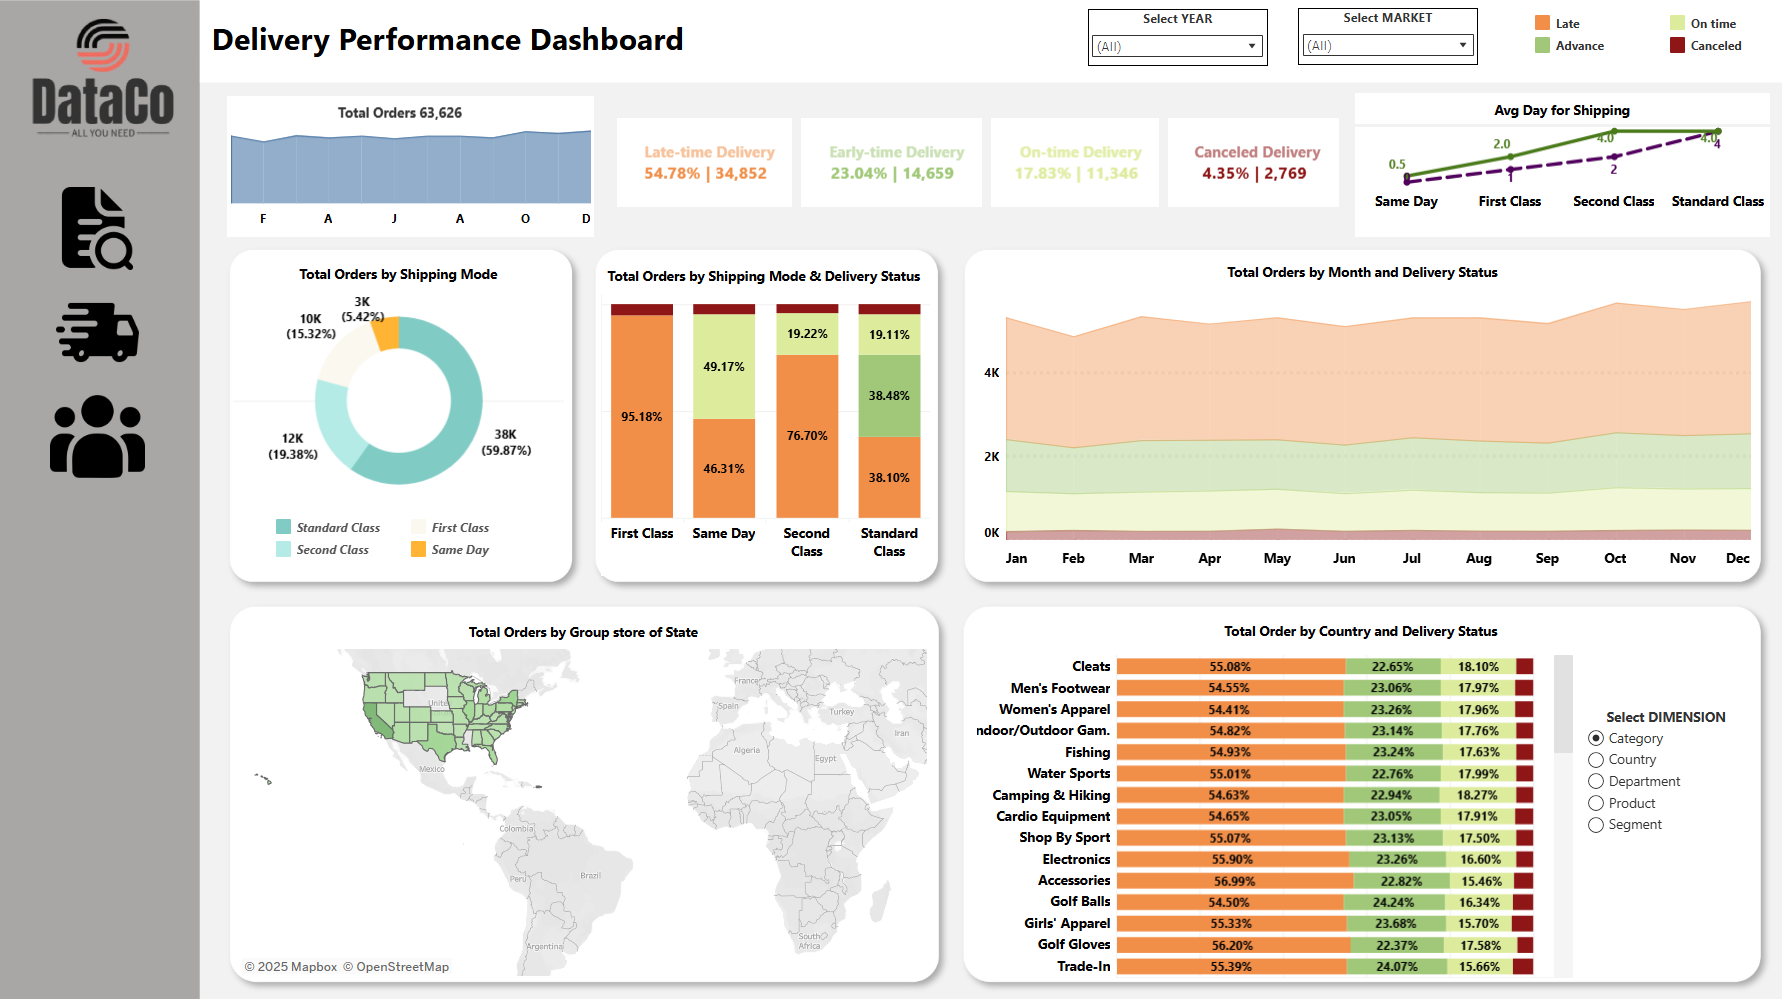

The page's visual inventory and layout, read from the dashboard file:
{"tool":"tableau","page":{"name":"DELIVERY dashboard","canvas":[1600,900],"ordinal":1},"visuals":[{"type":"image","param":"D:/Năm 3/Kì 2/Trực quan hóa DL/BT Nhóm/Final/Template Delivery.jpg","box":[0,0,1600,900]},{"type":"filter","title":"Total Orders by Shipping Mode & Delivery Status ","param":"[federated.1q7cowo1s3advo10dbl711lnegs0].[none:Customer Market:nk]","box":[1162,11,160,51]},{"type":"filter","title":"Total Orders by Shipping Mode & Delivery Status ","param":"[federated.1q7cowo1s3advo10dbl711lnegs0].[yr:Order Date:ok]","box":[975,12,160,51]},{"type":"text","box":[196,15,520,44]},{"type":"worksheet","title":"Avg Day for Shipping","mark":"Line","rows":["Days for shipment (scheduled)","Days for shipping (real)"],"cols":["Shipping Mode"],"box":[1212,87,369,129]},{"type":"worksheet","title":"Total orders","mark":"Automatic","box":[302,94,188,28]},{"type":"worksheet","title":"Late-time Delivery","mark":"Automatic","box":[552,105,164,87]},{"type":"worksheet","title":"Early-time Delivery","mark":"Automatic","box":[716,105,169,87]},{"type":"worksheet","title":"On-time Delivery","mark":"Automatic","box":[885,105,157,87]},{"type":"worksheet","title":"Canceled Delivery","mark":"Automatic","box":[1042,105,160,87]},{"type":"worksheet","title":"Total orders by month","mark":"Area","rows":["Calculation_1693916422482567170"],"cols":["Month"],"box":[213,117,320,97]},{"type":"dashboard-object","box":[44,185,111,92.3]},{"type":"worksheet","title":"Total Orders by Month and Delivery Status","mark":"Area","rows":["Calculation_1693916422482567170"],"cols":["Month"],"box":[872,231,692,283]},{"type":"worksheet","title":"Total Orders by Shipping Mode","mark":"Pie","rows":["Calculation_1507298513372962832","Calculation_1507298513373003794"],"box":[215,233,294,224]},{"type":"worksheet","title":"Total Orders by Shipping Mode & Delivery Status ","mark":"Automatic","cols":["Shipping Mode"],"box":[542,235,293,281]},{"type":"dashboard-object","box":[44,277.3,111,92.3]},{"type":"dashboard-object","box":[44,369.7,111,92.3]},{"type":"legend","title":"Total Orders by Shipping Mode","param":"[federated.1q7cowo1s3advo10dbl711lnegs0].[none:Shipping Mode:nk]","box":[250,462,249,50]},{"type":"text","box":[869,549,697,30]},{"type":"worksheet","title":"Total Orders by Group store of State","mark":"Automatic","box":[221,551,611,321]},{"type":"worksheet","title":"Total Orders by Dimension and Delivery Status","mark":"Automatic","rows":["Calculation_1507298513379631125"],"cols":["Calculation_1693916422482567170"],"box":[876,586,531,287]},{"type":"parameter","param":"[Parameters].[Parameter 2]","box":[1416,633,146,143]}]}

Visuals, with their boxes in screenshot pixels (x1, y1, x2, y2), scaled from the page's 1600x900 canvas onto the 1782x999 screenshot:
image: select_region(0, 0, 1781, 998)
"Total Orders by Shipping Mode & Delivery Status " filter: select_region(1294, 12, 1472, 69)
"Total Orders by Shipping Mode & Delivery Status " filter: select_region(1086, 13, 1264, 70)
text: select_region(218, 17, 797, 65)
"Avg Day for Shipping" worksheet (Line marks): select_region(1350, 97, 1761, 240)
"Total orders" worksheet: select_region(336, 104, 546, 135)
"Late-time Delivery" worksheet: select_region(615, 117, 797, 213)
"Early-time Delivery" worksheet: select_region(797, 117, 986, 213)
"On-time Delivery" worksheet: select_region(986, 117, 1161, 213)
"Canceled Delivery" worksheet: select_region(1161, 117, 1339, 213)
"Total orders by month" worksheet (Area marks): select_region(237, 130, 594, 238)
dashboard-object: select_region(49, 205, 173, 308)
"Total Orders by Month and Delivery Status" worksheet (Area marks): select_region(971, 256, 1742, 571)
"Total Orders by Shipping Mode" worksheet (Pie marks): select_region(239, 259, 567, 507)
"Total Orders by Shipping Mode & Delivery Status " worksheet: select_region(604, 261, 930, 573)
dashboard-object: select_region(49, 308, 173, 410)
dashboard-object: select_region(49, 410, 173, 513)
"Total Orders by Shipping Mode" legend: select_region(278, 513, 556, 568)
text: select_region(968, 609, 1744, 643)
"Total Orders by Group store of State" worksheet: select_region(246, 612, 927, 968)
"Total Orders by Dimension and Delivery Status" worksheet: select_region(976, 650, 1567, 969)
parameter: select_region(1577, 703, 1740, 861)
